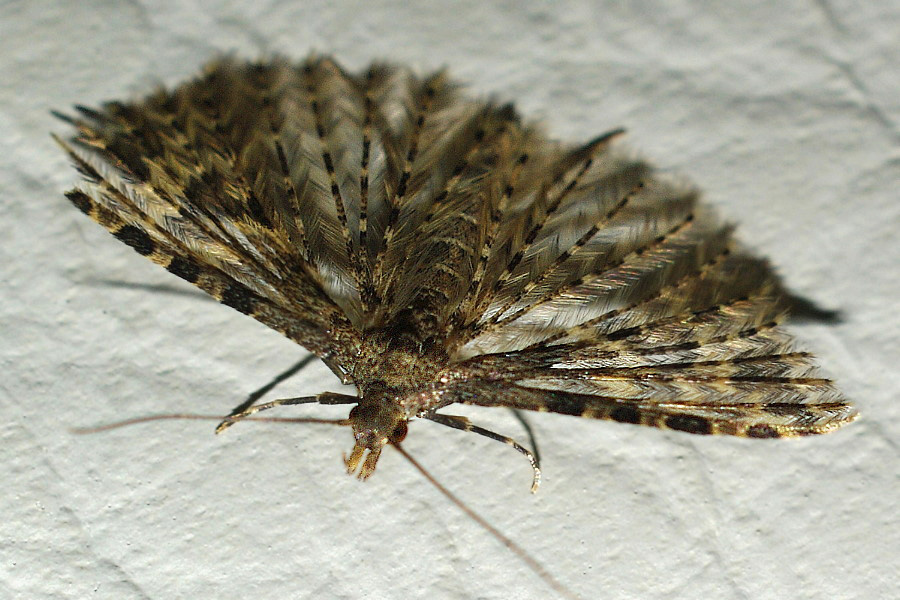Alucitidae: (39, 29, 867, 600)
moth: (41, 31, 860, 600)
